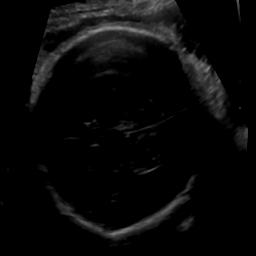normal: (13, 11, 222, 255)
